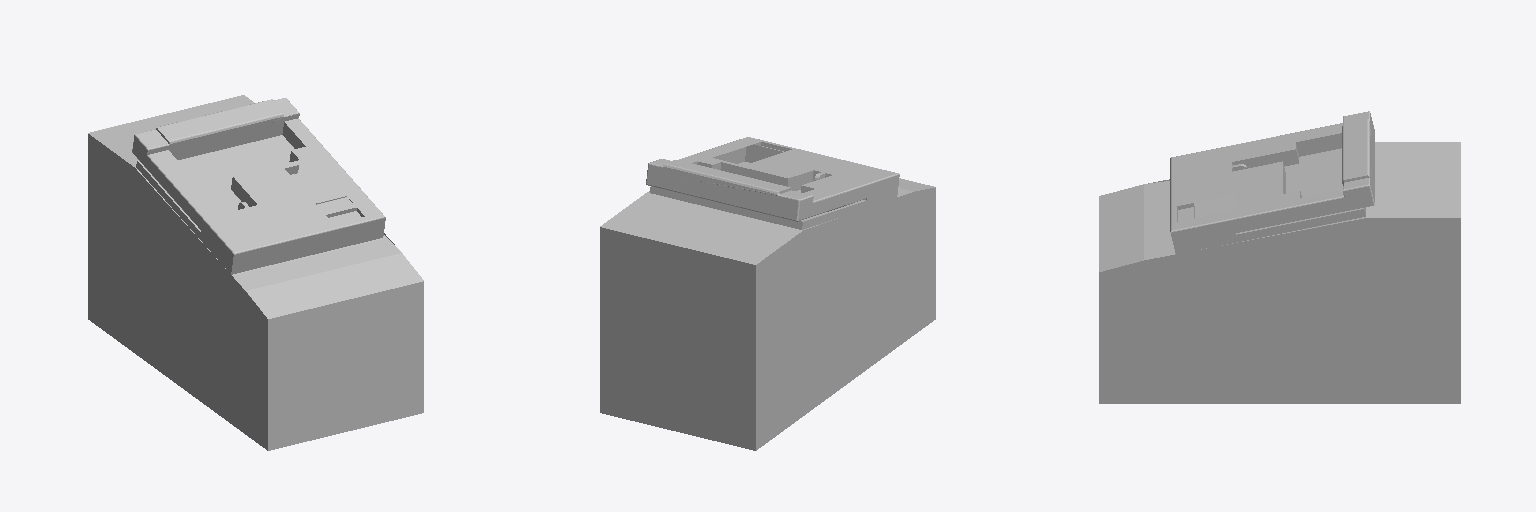
File: module_lever_mount.obj
The picture shows the model from 3 angles: view 1: azimuth 30°, elevation 25°; view 2: azimuth 150°, elevation 25°; view 3: azimuth 270°, elevation 25°; orthographic projection.
Bounding box in the file's own units: 0.5 × 0.6719 × 1.